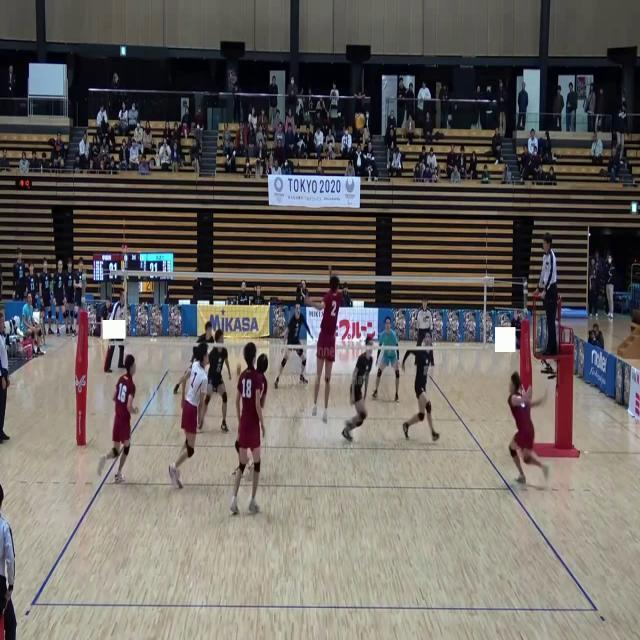volleyball: (354, 114, 366, 128)
